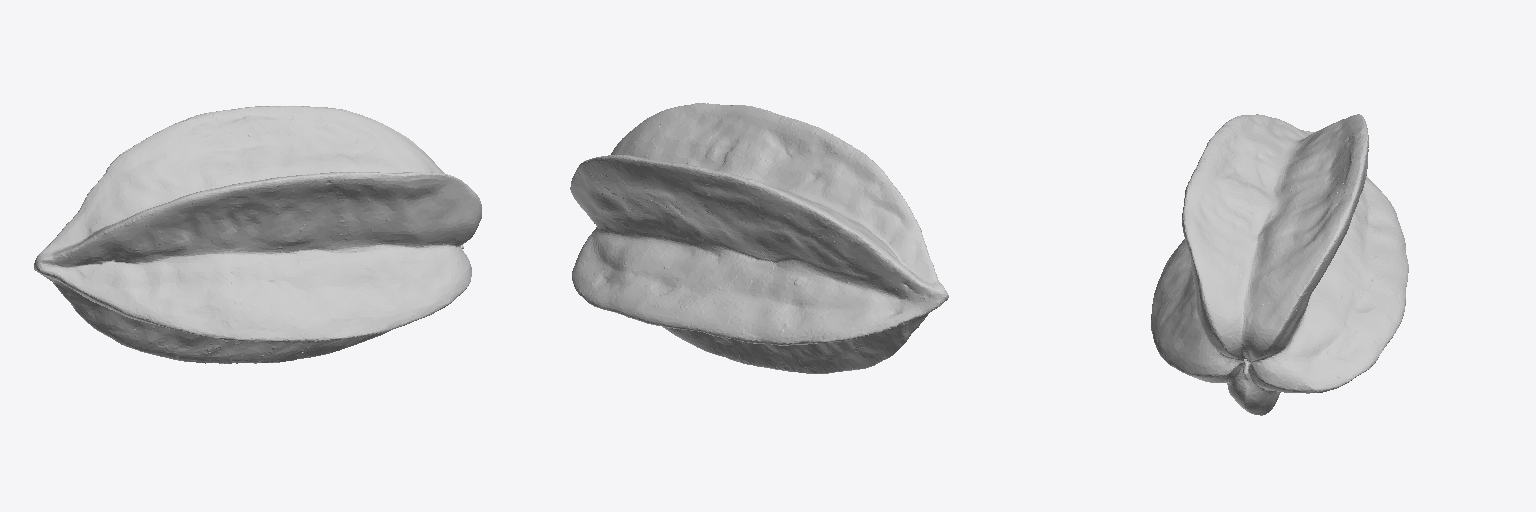
File: carambola.obj
The picture shows the model from 3 angles: view 1: azimuth 30°, elevation 25°; view 2: azimuth 150°, elevation 25°; view 3: azimuth 270°, elevation 25°; orthographic projection.
Parts seen in each view (by area): view 1: low res; view 2: low res; view 3: low res.
Part boxes in pixels (bbox=[...]): low res: bbox=[34, 106, 481, 363]; low res: bbox=[570, 103, 948, 373]; low res: bbox=[1151, 114, 1408, 415].
Size of the model in its own units: 104 by 56.39 by 58.26.